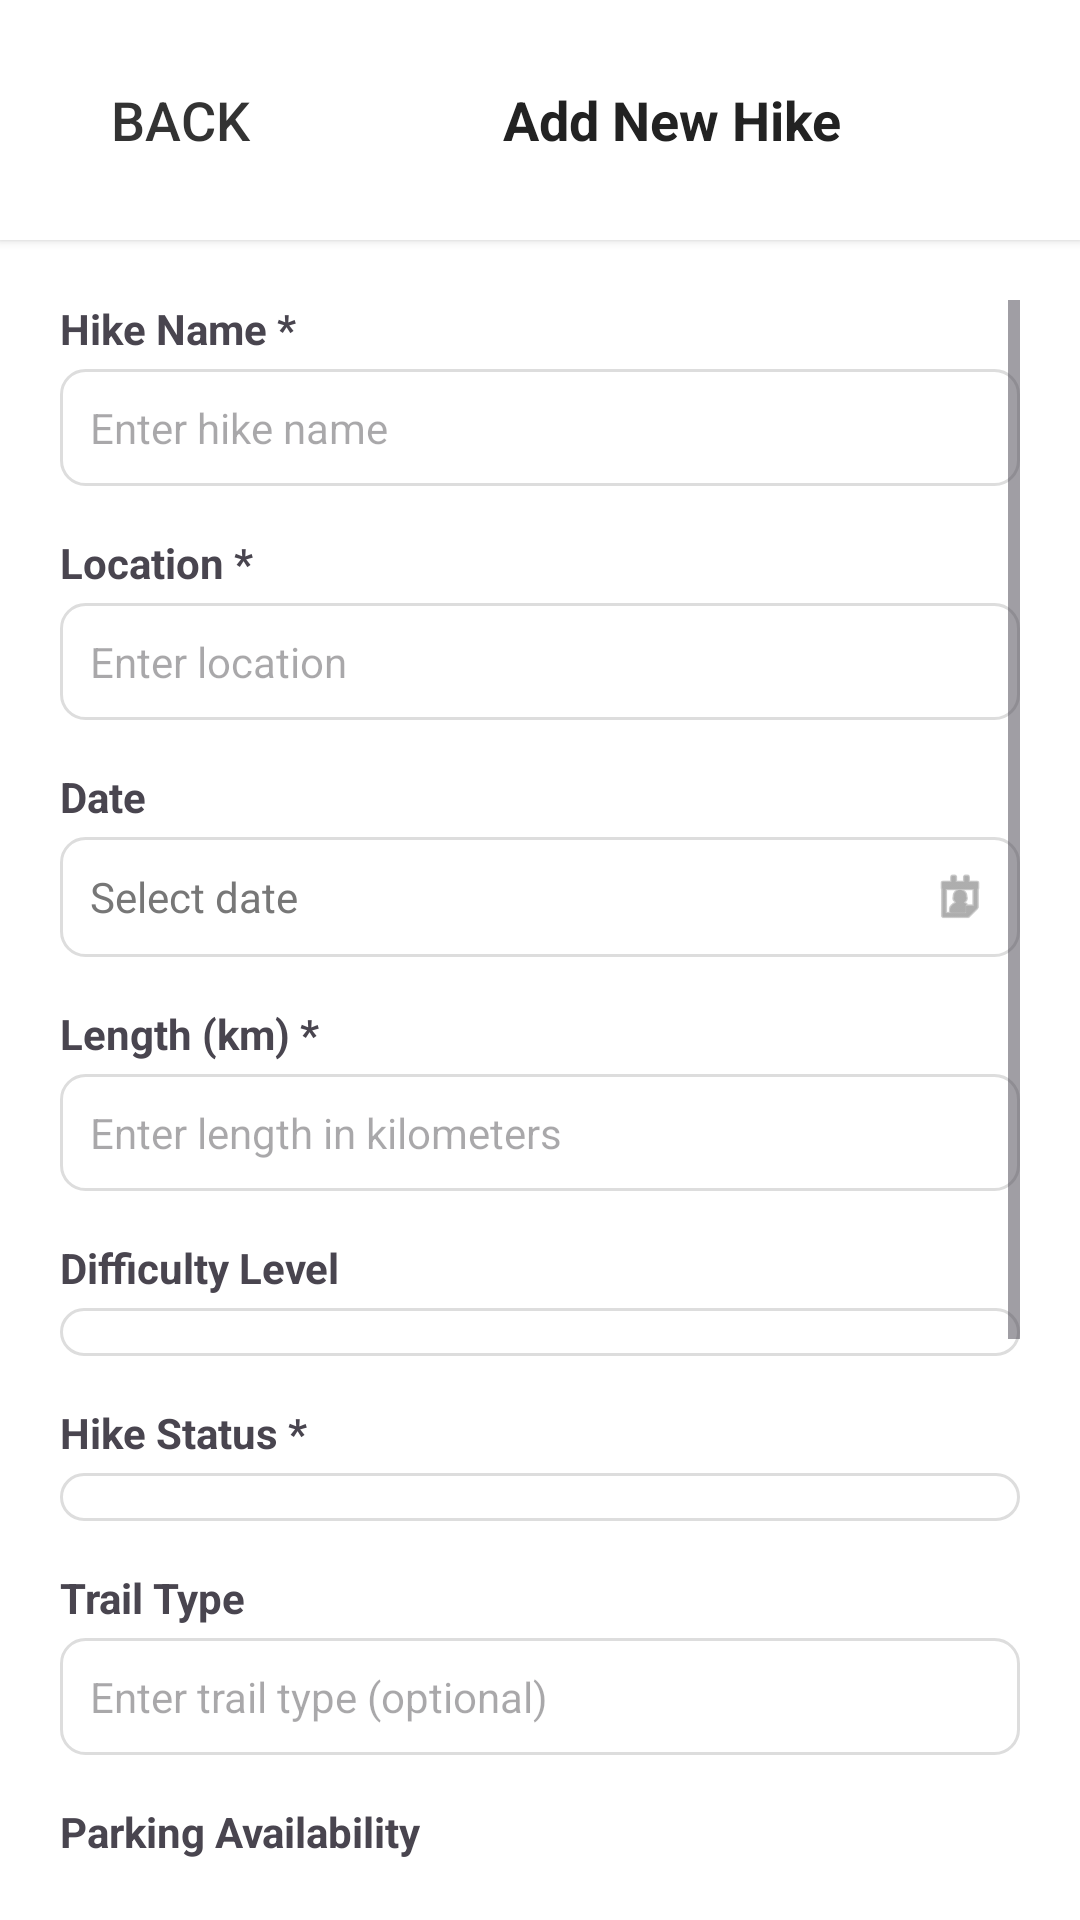

Point at icon controls on the screen. Image size 1080*1920, points as [x,y].
calendar: [960,896]
